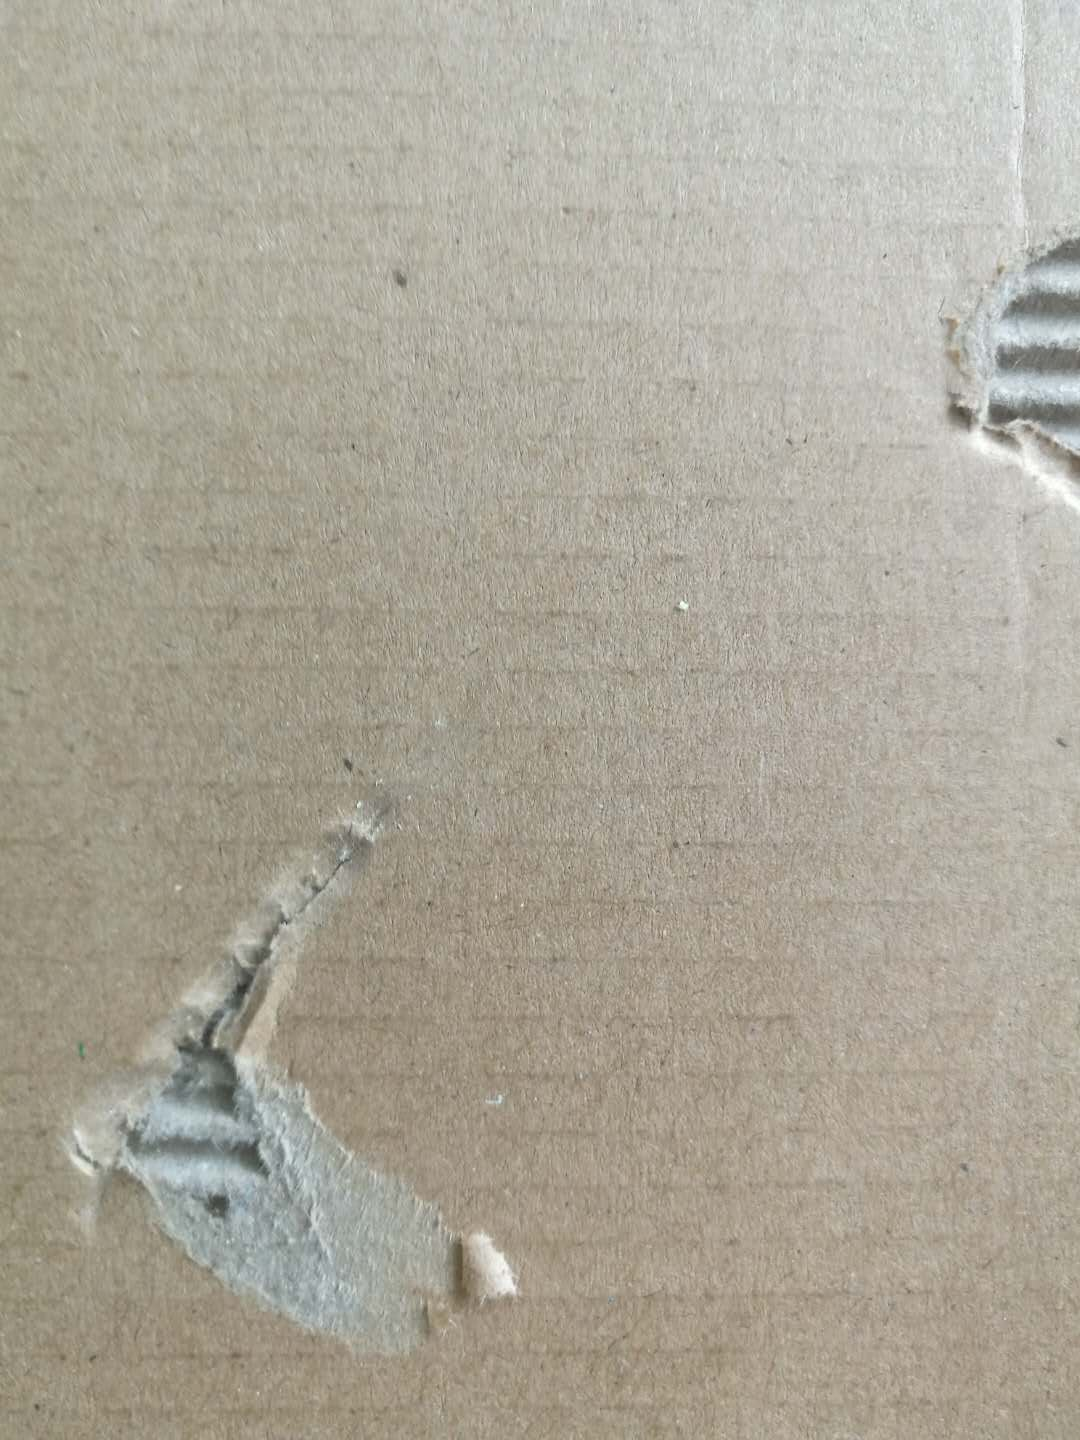defect: (22, 749, 609, 1401), (920, 210, 1080, 520), (988, 2, 1055, 265)
